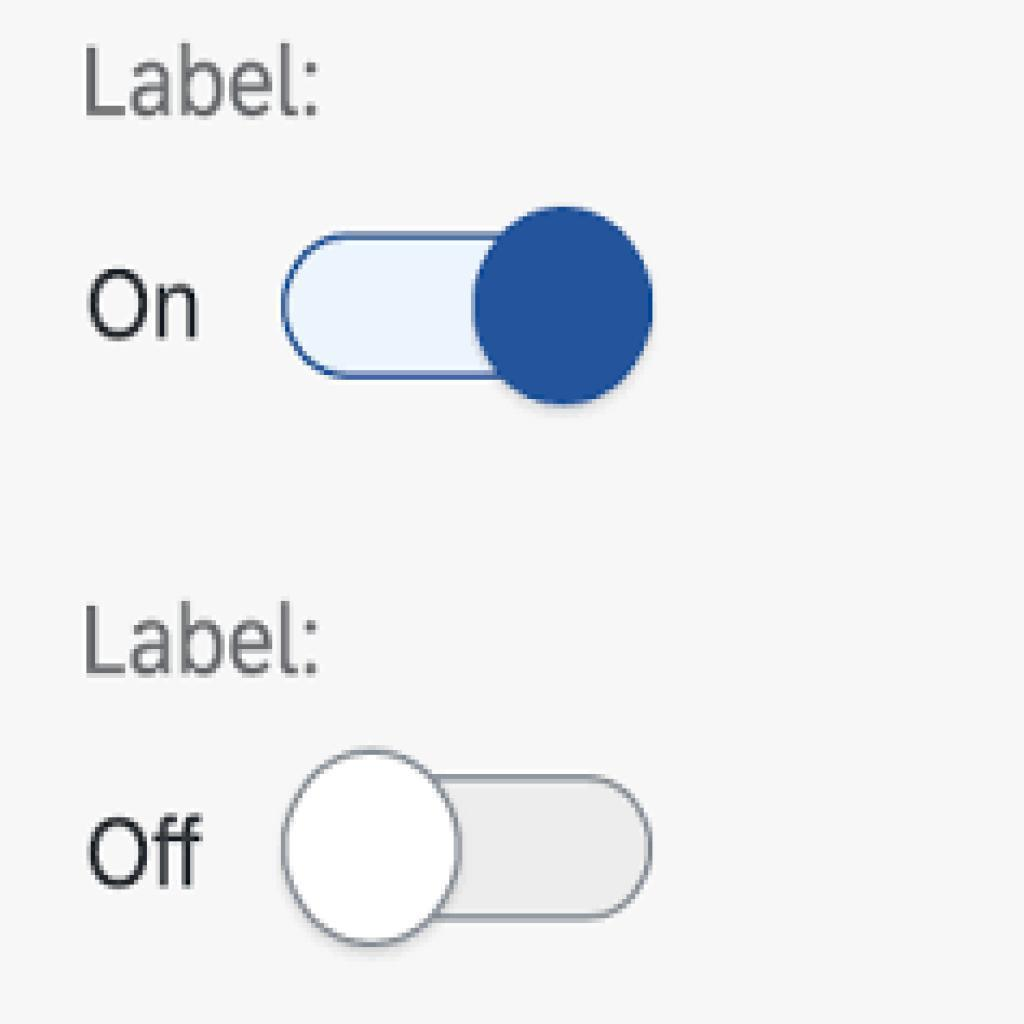label: (85, 808, 212, 900), (82, 265, 209, 353)
switch: (280, 748, 655, 948), (283, 207, 655, 408)
